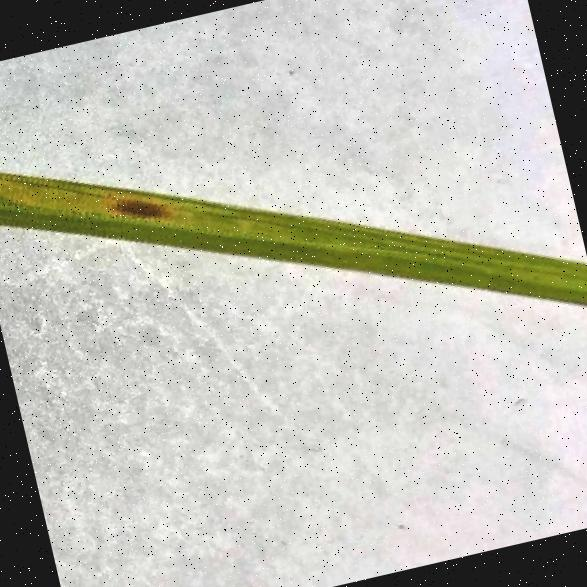Leaf_smut: (76, 160, 219, 264)
